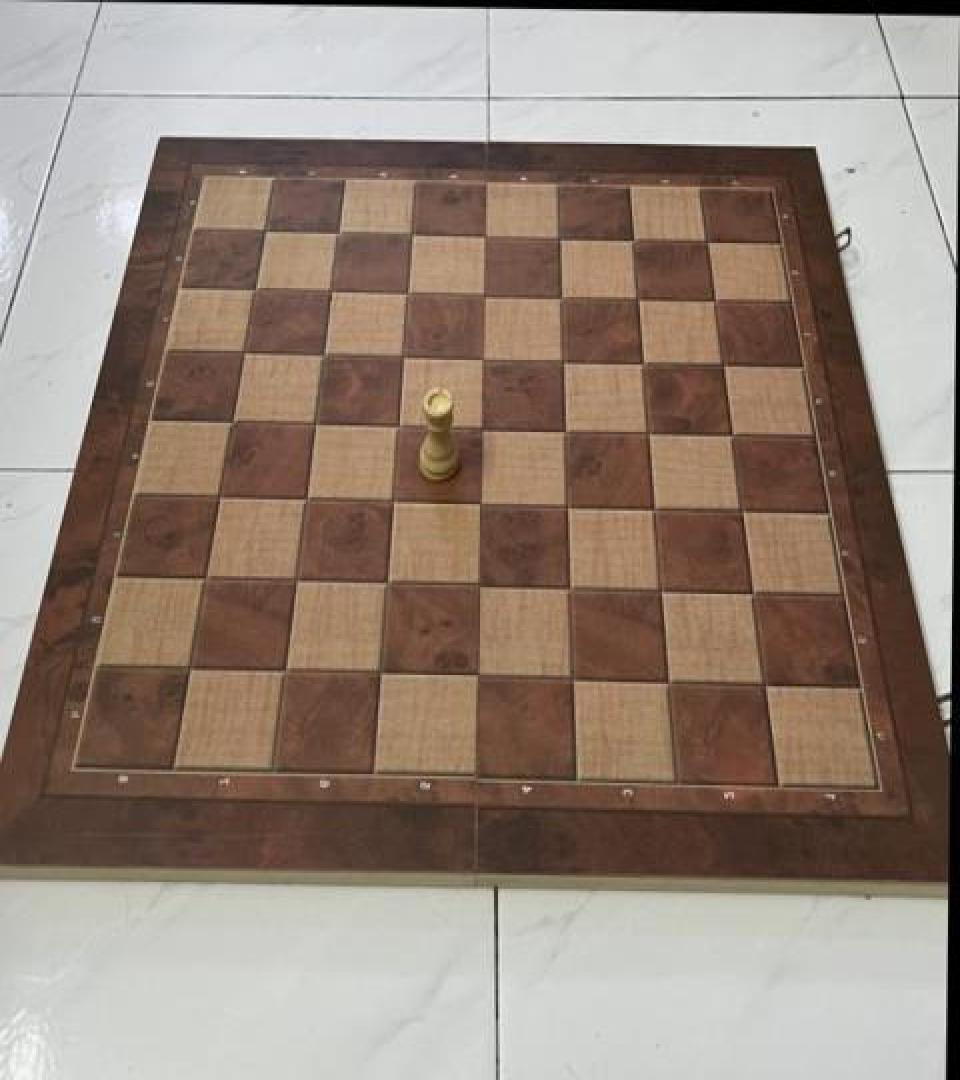xcorner: (542, 219, 576, 258), (240, 272, 274, 311), (316, 273, 350, 312), (229, 335, 263, 374), (376, 481, 410, 520), (649, 661, 683, 700), (250, 215, 284, 253), (323, 216, 357, 254), (396, 217, 430, 255), (469, 218, 503, 256), (616, 220, 650, 258), (690, 222, 724, 260), (391, 276, 425, 314), (468, 277, 502, 315), (544, 278, 578, 316), (621, 279, 655, 317), (697, 280, 731, 318), (308, 336, 342, 374), (387, 339, 421, 377), (466, 340, 500, 378), (546, 341, 580, 379), (625, 343, 659, 381), (705, 344, 739, 382), (217, 404, 251, 442), (299, 405, 333, 443), (382, 408, 416, 446), (464, 408, 498, 446), (547, 411, 581, 449), (631, 412, 665, 450), (714, 414, 748, 452), (204, 478, 238, 516), (290, 480, 324, 518), (462, 484, 496, 522), (549, 486, 583, 524), (636, 488, 670, 526), (724, 490, 758, 528), (190, 559, 224, 597), (280, 562, 314, 600), (370, 564, 404, 602), (460, 566, 494, 604), (551, 568, 585, 606), (642, 570, 676, 608), (734, 573, 768, 611), (174, 649, 208, 687), (269, 652, 303, 690), (363, 654, 397, 692), (458, 657, 492, 695), (553, 660, 587, 698), (745, 664, 779, 702)
